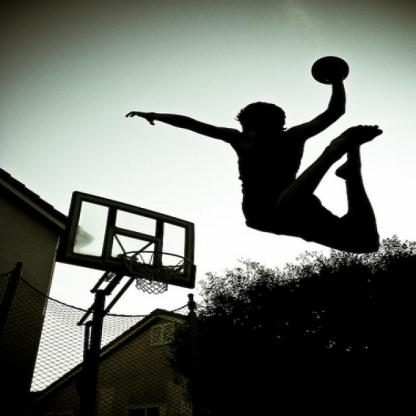basketball: (310, 55, 348, 84)
rim: (121, 250, 190, 270)
